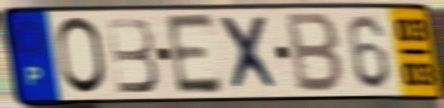6: (345, 11, 393, 93)
B: (286, 10, 346, 95), (103, 15, 162, 96)
E: (162, 11, 226, 98)
O: (54, 15, 110, 98)
X: (215, 14, 284, 93)
